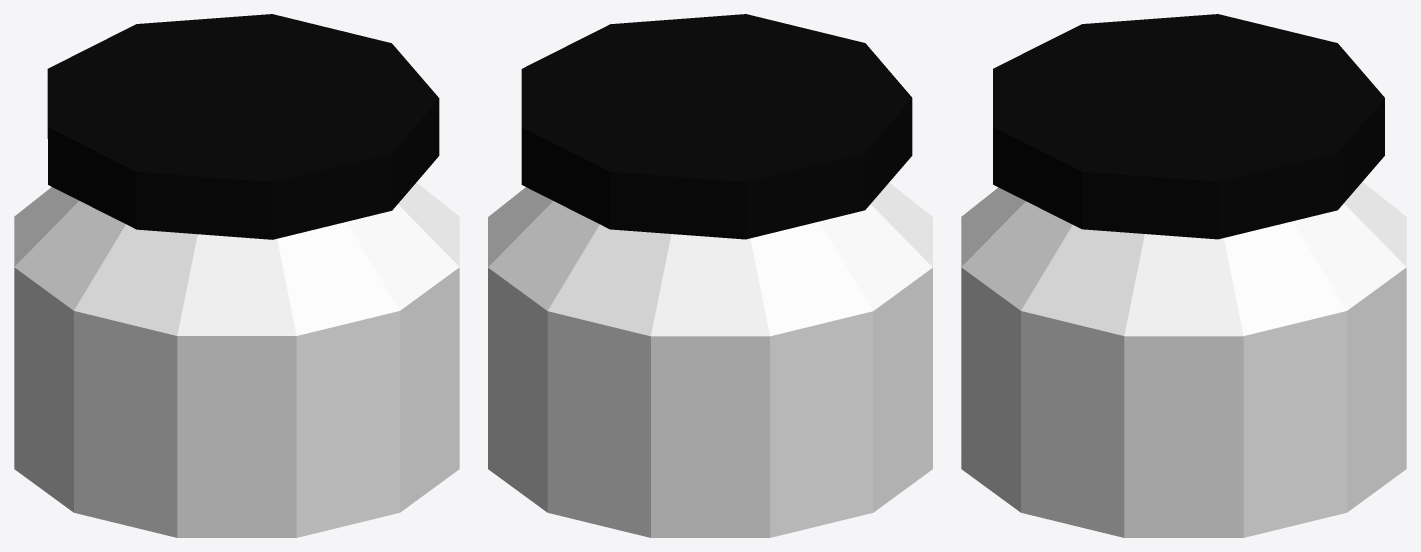
Rendered from honey.fbx.
3 renders of one model, left to right at view 1: azimuth 30°, elevation 25°; view 2: azimuth 150°, elevation 25°; view 3: azimuth 270°, elevation 25°, orthographic.
Parts seen in each view (by area): view 1: transparent; view 2: transparent; view 3: transparent.
Boxes of the visible parts, left/top/right/bottom form: transparent: left=14, top=14, right=459, bottom=537; transparent: left=488, top=14, right=932, bottom=537; transparent: left=961, top=14, right=1406, bottom=537.
Bounding box in the file's own units: 87.5 × 75 × 87.5.
1 material, 1 textured.
